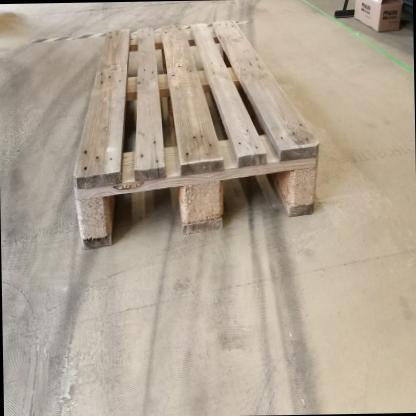BoxFace: (69, 14, 324, 255)
